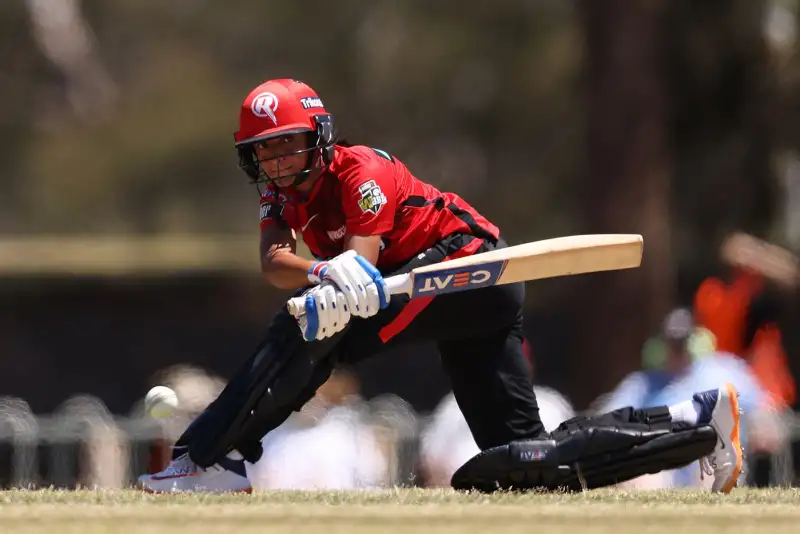Sweepshot: (147, 25, 768, 534)
